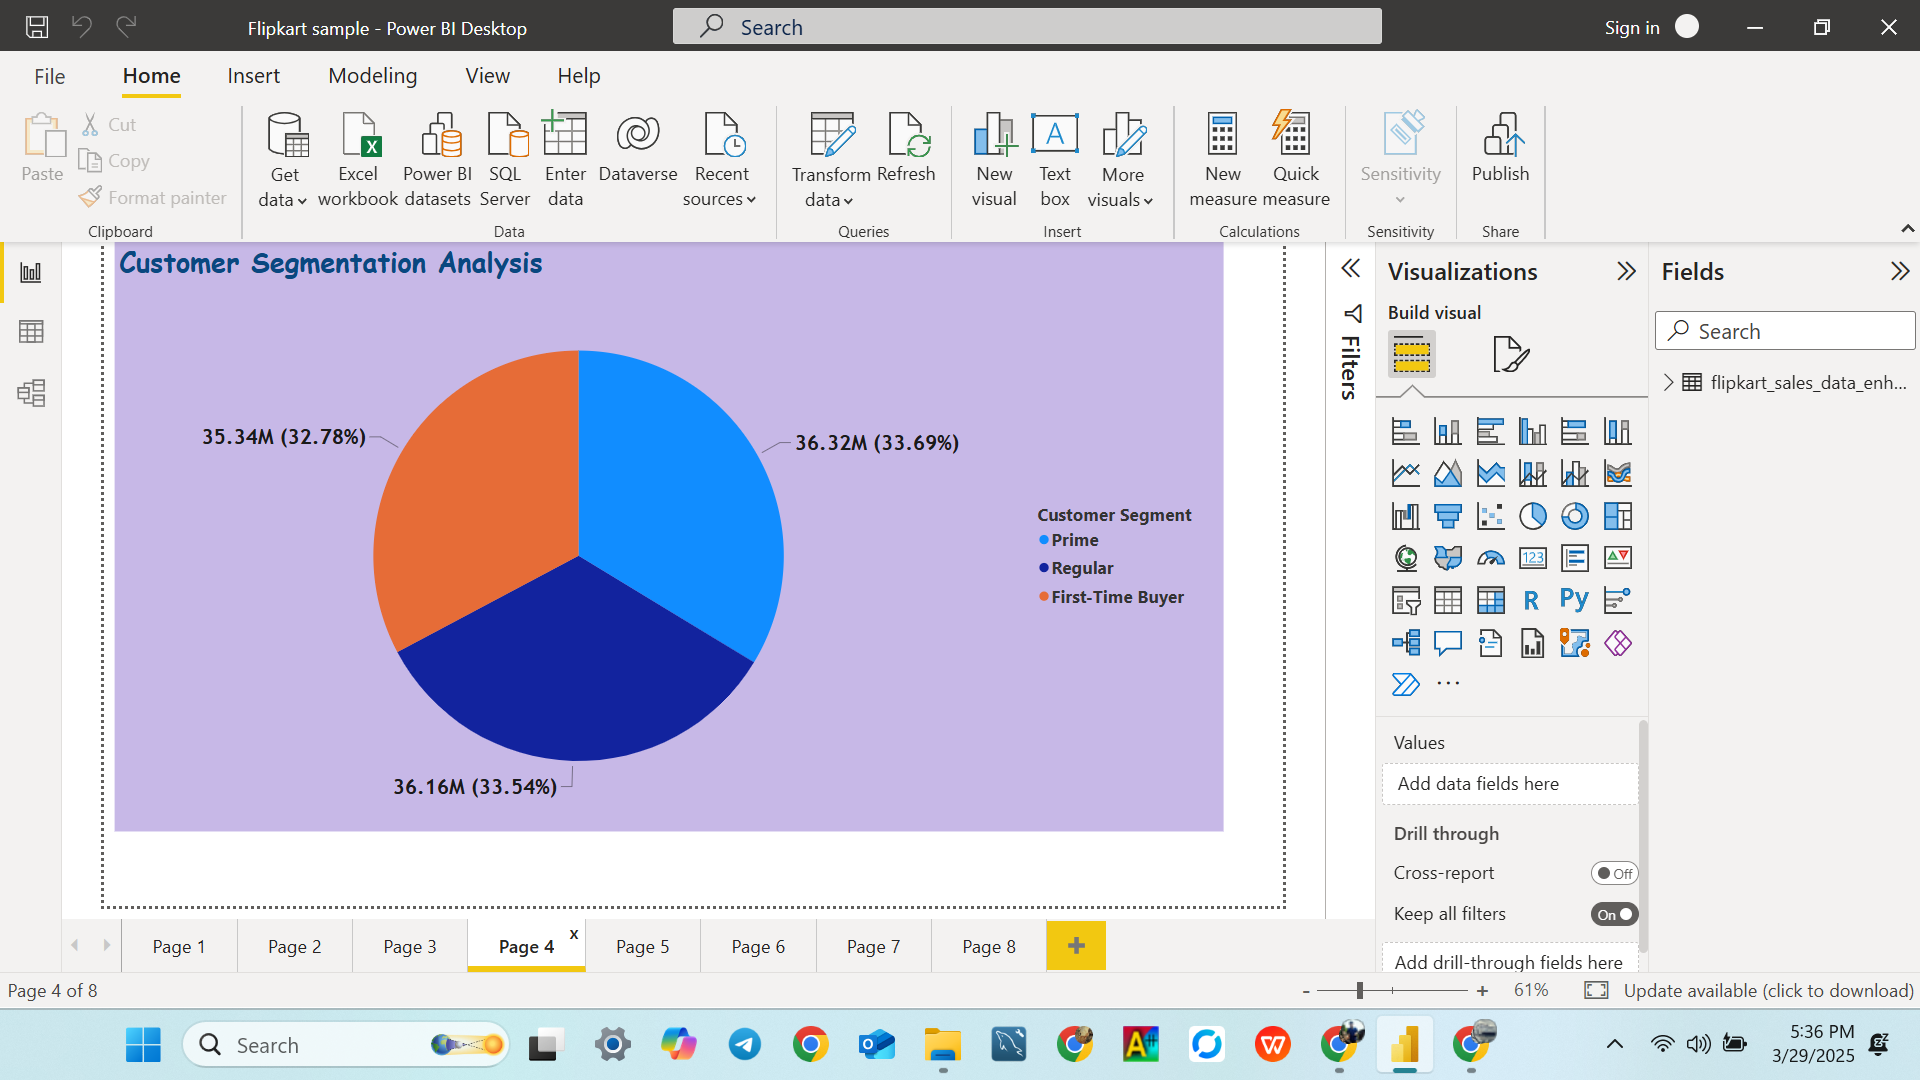

What the dashboard file says about the page in this screenshot:
{"tool":"powerbi","page":{"name":"Page 4","canvas":[1280,720],"ordinal":0},"visuals":[{"type":"pieChart","title":"Customer Segmentation Analysis","fields":{"Category":["flipkart_sales_data_enhanced.Customer Segment"],"Y":["Sum(flipkart_sales_data_enhanced.Total Sales)"]},"box":[11.5,0,1239.5,572.1],"z":0},{"type":"textbox","box":[55.9,588.5,1224.7,120],"z":1000}]}

Visuals, with their boxes on the page's 1280x720 design canvas (x1, y1, x2, y2). These are canvas units, not pixel positions in the 1920x1080 screenshot, which may show the page scaled, cropped or inside an application window:
"Customer Segmentation Analysis" pieChart: (12, 0, 1251, 572)
textbox: (56, 588, 1281, 708)
